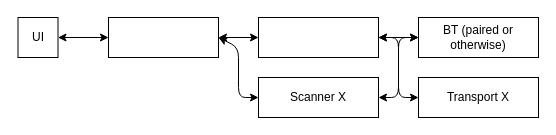
Some shapes in this 556 by 135 pixel diagram are drawn without their labels. Here are the shapes that lost their labels. From the top down, the box of each, then its label:
(108, 16, 218, 58): OBD2
(258, 16, 378, 58): ELM327
